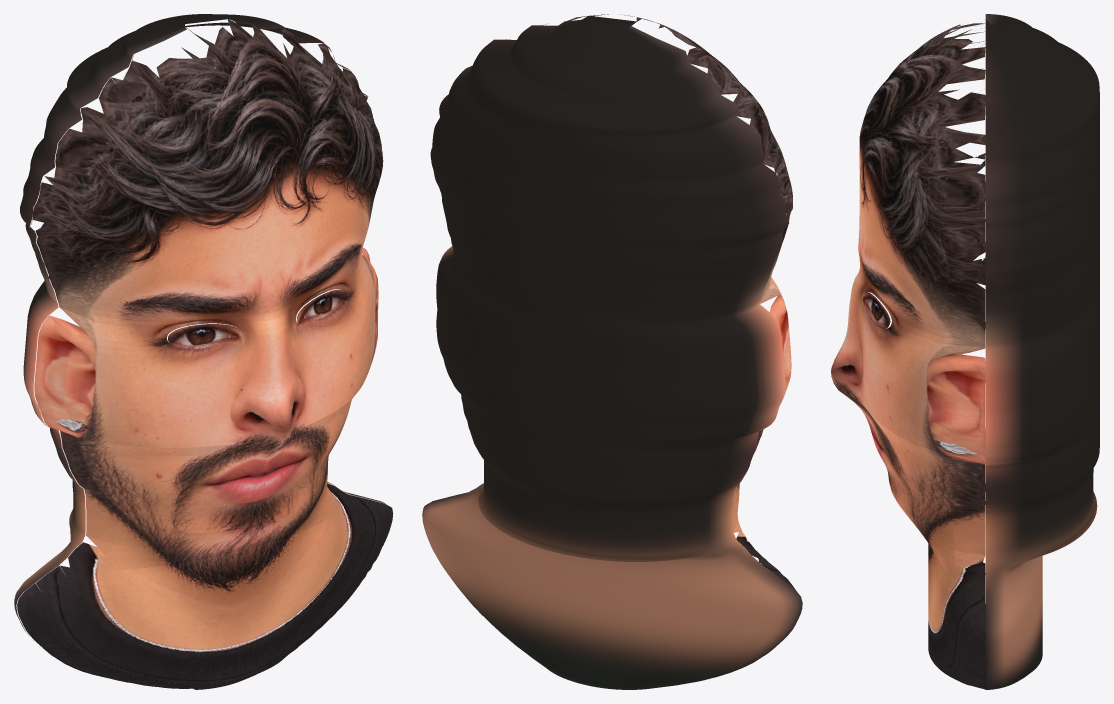
File: sebaz-avatar.glb
The picture shows the model from 3 angles, left to right: view 1: azimuth 30°, elevation 25°; view 2: azimuth 150°, elevation 25°; view 3: azimuth 270°, elevation 25°; orthographic projection. The views are drawn at different scales.
Visible parts, largest first — view 1: AvatarPortrait, AvatarBack, Eye0, Eye1; view 2: AvatarBack, AvatarPortrait; view 3: AvatarBack, AvatarPortrait, Eye1.
Boxes of the visible parts, x1,y1,x2,y2 form: AvatarPortrait: (17, 19, 393, 689); AvatarBack: (14, 14, 384, 640); Eye0: (168, 324, 243, 349); Eye1: (297, 289, 345, 324); AvatarBack: (422, 15, 802, 689); AvatarPortrait: (542, 14, 794, 588); AvatarBack: (985, 14, 1099, 689); AvatarPortrait: (831, 23, 985, 689); Eye1: (862, 292, 890, 328).
Size of what is drawn, in the model's own units: 2.2 by 3.64 by 1.41.
4 materials, 3 textured.
